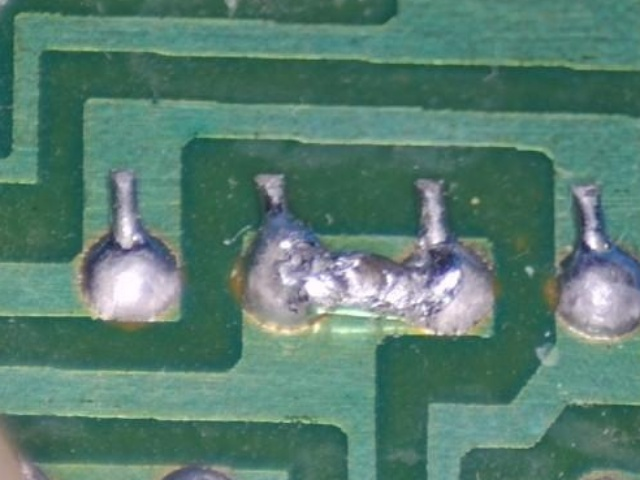pcb_defect: (246, 212, 492, 332)
